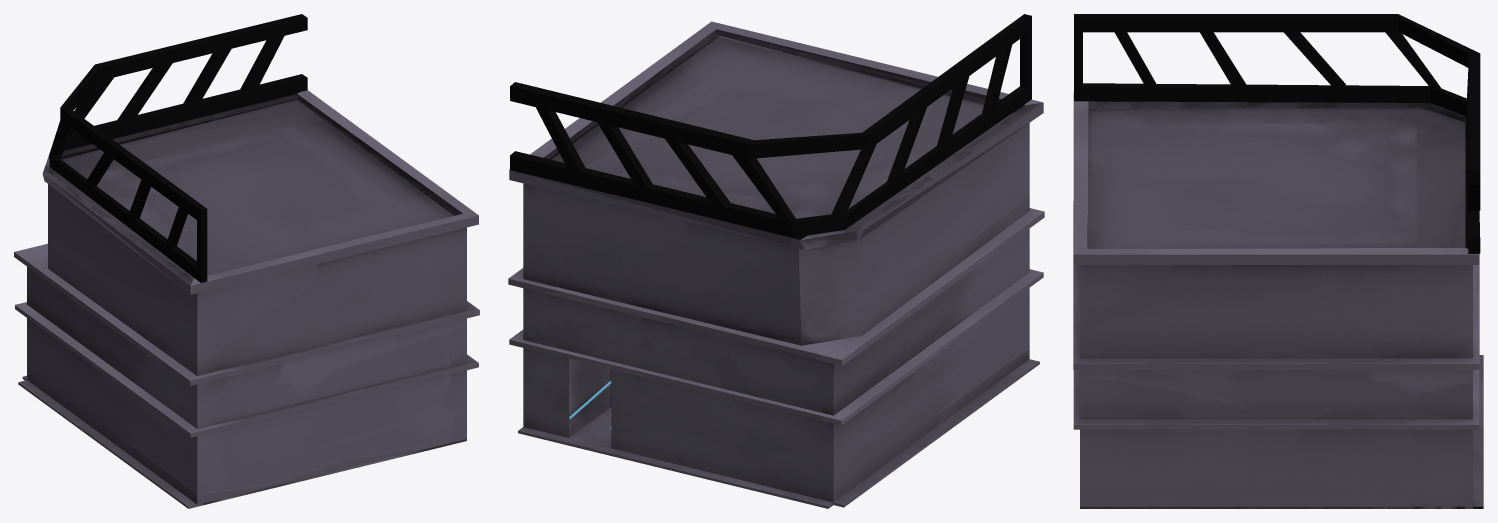
Rendered from Big Building 1.fbx.
3 views of the same model, side by side, from view 1: azimuth 30°, elevation 25°; view 2: azimuth 150°, elevation 25°; view 3: azimuth 270°, elevation 25° (orthographic). The views are drawn at different scales.
Visible parts, largest first — view 1: FinalBuilding_Big_1; view 2: FinalBuilding_Big_1; view 3: FinalBuilding_Big_1.
Boxes of the visible parts, box(x1,y1,x2,y2) form: FinalBuilding_Big_1: box(14, 14, 479, 508); FinalBuilding_Big_1: box(508, 14, 1044, 508); FinalBuilding_Big_1: box(1073, 14, 1483, 508).
Size of the model in its own units: 10.15 by 9.98 by 10.79.
